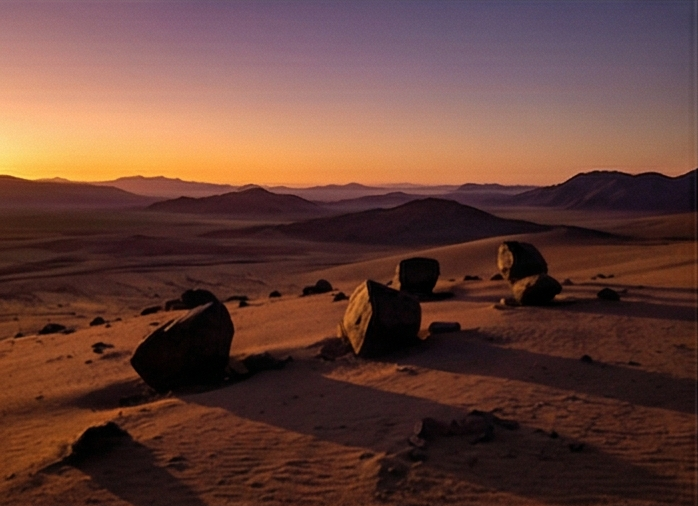rocks: (128, 295, 233, 390), (339, 276, 423, 358), (63, 420, 127, 461), (497, 238, 548, 281), (391, 254, 439, 294), (240, 350, 288, 372), (414, 415, 448, 438), (300, 277, 333, 295), (226, 356, 249, 377), (426, 320, 459, 334), (468, 426, 491, 443), (36, 321, 65, 334), (405, 445, 427, 461), (595, 287, 618, 301), (90, 340, 113, 353), (406, 432, 425, 447), (139, 305, 159, 315), (87, 316, 106, 326), (224, 295, 247, 303), (330, 291, 348, 300), (579, 354, 592, 364), (463, 273, 481, 280), (559, 277, 574, 285), (489, 272, 503, 279), (268, 290, 281, 296)
